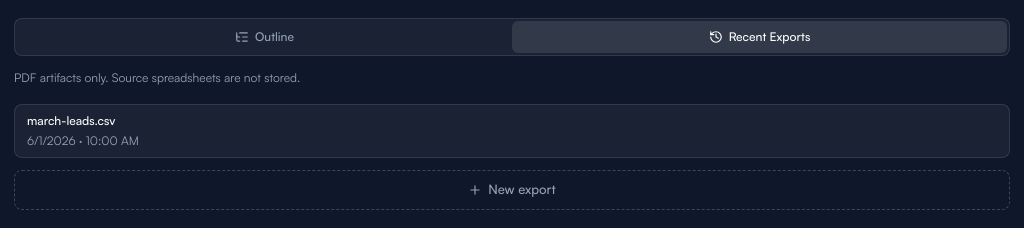
Test: Left rail, Outline / Recent Exports tabs › clicking Outline reveals the rendered-sections list and hides recent exports
Click the tab "Outline".
click(264, 37)  # box [17, 21, 512, 53]
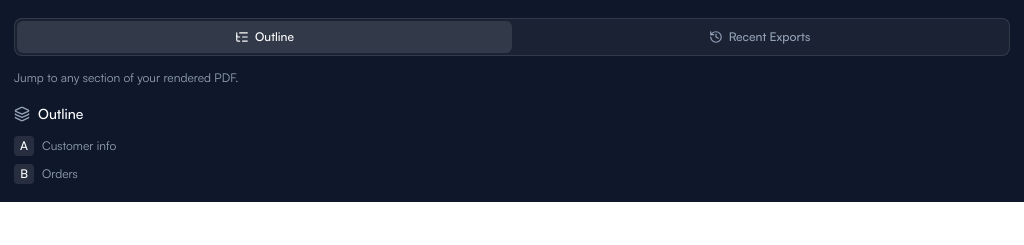
Check: the text "Customer info" is shown, box [42, 138, 116, 154]
Check: the text "Orders" is shown, box [42, 166, 78, 182]
Check: the link "march-leads.csv" is gone
